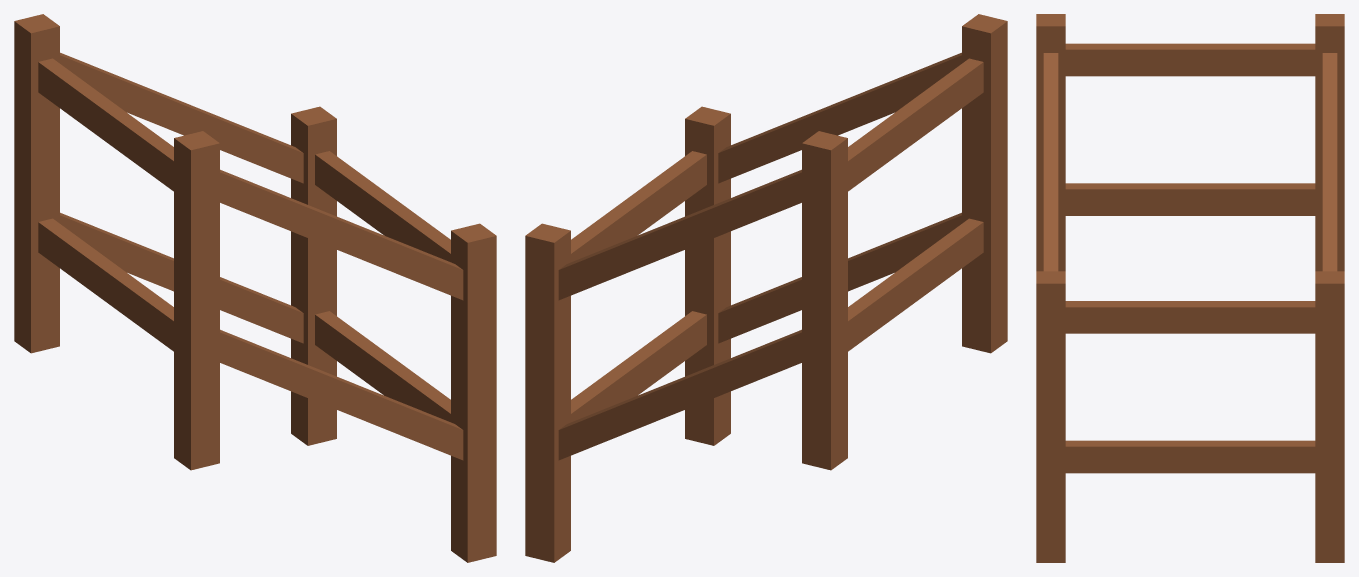
The model's file is ObstacleHighTileDiagonal.obj.
The picture shows the model from 3 angles, left to right: view 1: azimuth 30°, elevation 25°; view 2: azimuth 150°, elevation 25°; view 3: azimuth 270°, elevation 25°; orthographic projection. The views are drawn at different scales.
Visible parts, largest first — view 1: woodStructure_high.001; view 2: woodStructure_high.001; view 3: woodStructure_high.001.
Part boxes in pixels (left/top/right/bottom): woodStructure_high.001: left=14, top=14, right=496, bottom=562; woodStructure_high.001: left=525, top=14, right=1007, bottom=562; woodStructure_high.001: left=1036, top=14, right=1344, bottom=562.
Size of the model in its own units: 1 by 1.5 by 1.
